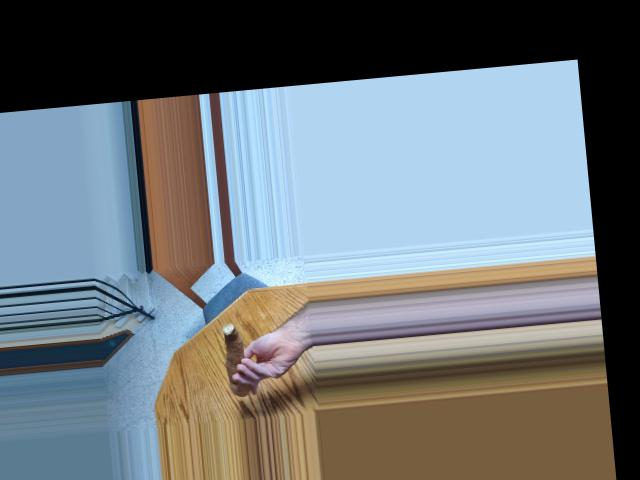sweet_potato: (223, 320, 244, 385)
